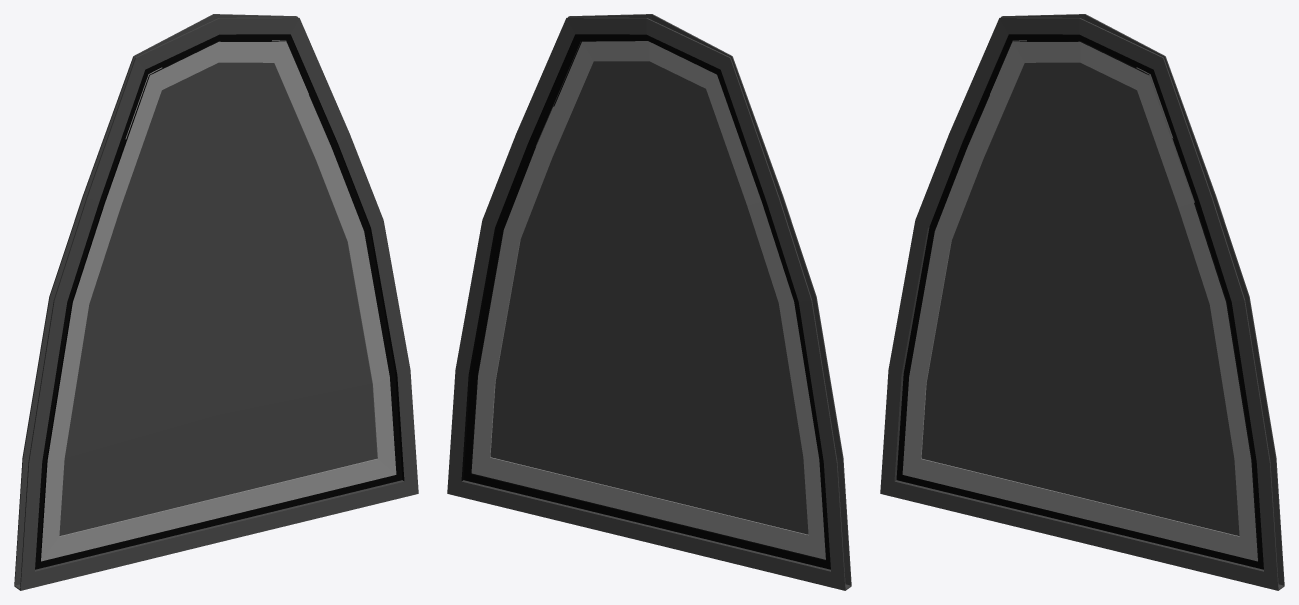
The model's file is puerta nivel 3.fbx.
3 renders of one model, left to right at view 1: azimuth 30°, elevation 25°; view 2: azimuth 150°, elevation 25°; view 3: azimuth 330°, elevation 25°, orthographic.
Parts seen in each view (by area): view 1: Cube.017; view 2: Cube.017; view 3: Cube.017.
Boxes of the visible parts, box(x1,y1,x2,y2) form: Cube.017: box(14, 14, 418, 590); Cube.017: box(447, 14, 851, 590); Cube.017: box(880, 14, 1284, 590).
Bounding box in the file's own units: 315 × 396 × 9.16.
1 material, 1 textured.
